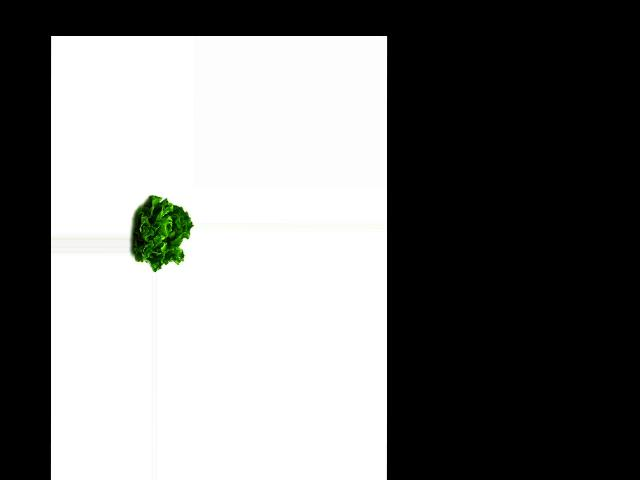lettuce: (130, 197, 192, 270)
